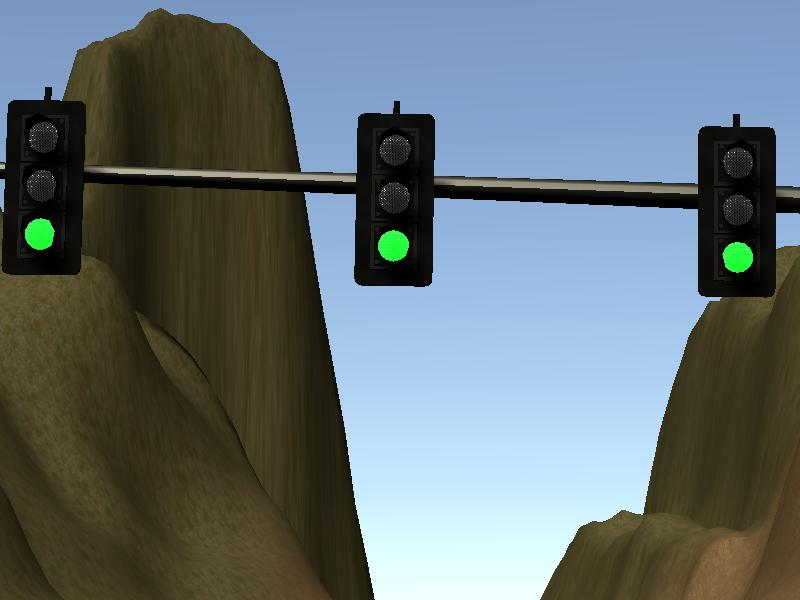green: (2, 97, 83, 277), (355, 109, 436, 289), (696, 124, 777, 304)
